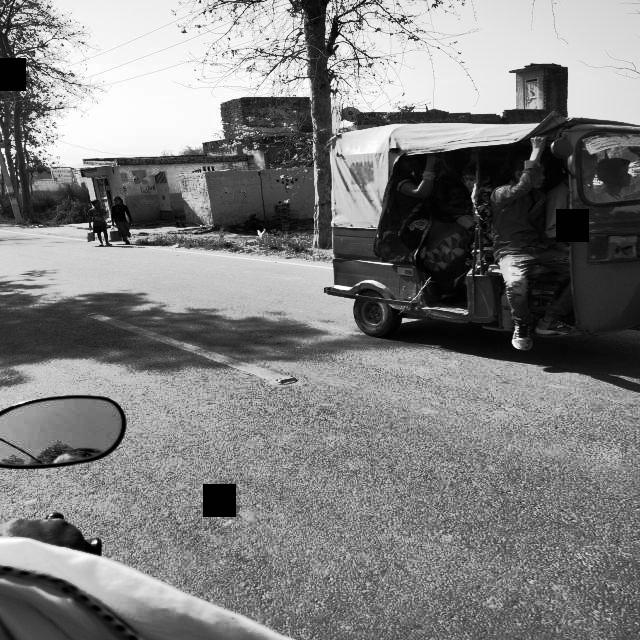Auto-Rickshaw: (313, 122, 640, 345)
